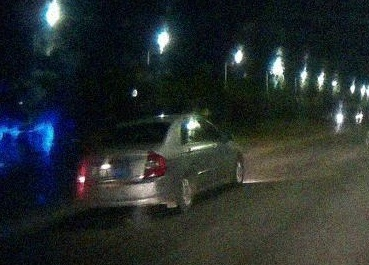L_light: (78, 160, 91, 183)
R_light: (144, 150, 166, 178)
T_light: (130, 126, 141, 129)
night-left: (75, 114, 172, 222)
